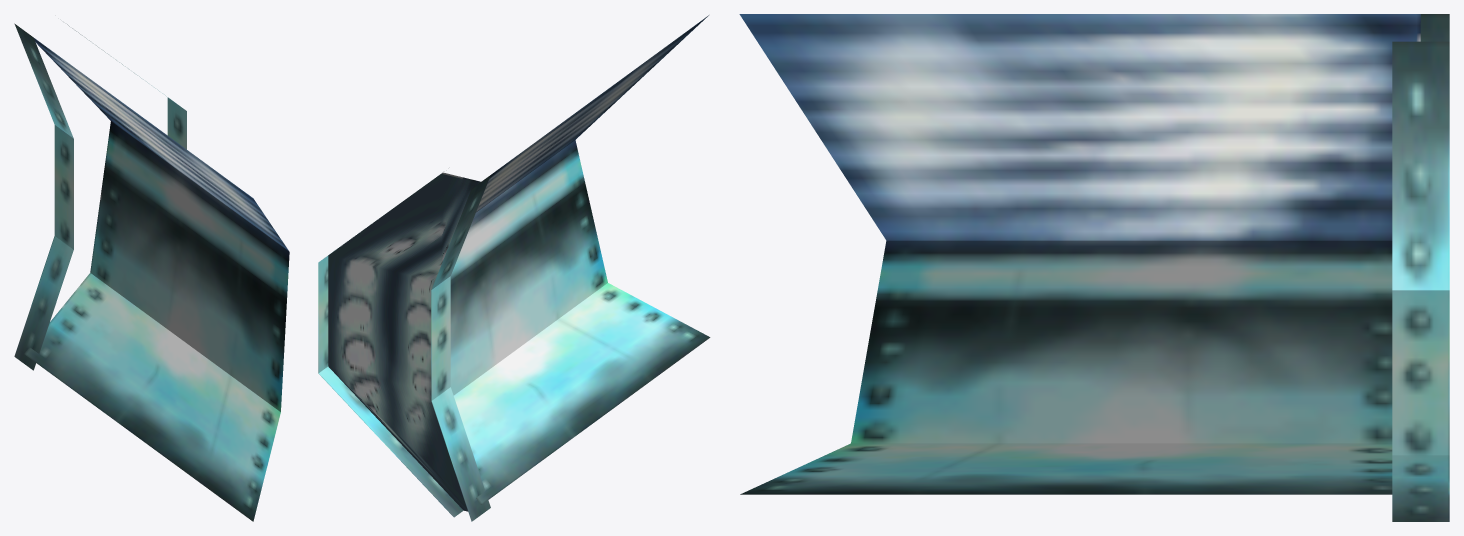
Rendered from W_A_Gang_Schräg_R_Ministerium_2487.glb.
3 renders of one model, left to right at view 1: azimuth 30°, elevation 25°; view 2: azimuth 150°, elevation 25°; view 3: azimuth 270°, elevation 25°, orthographic. The views are drawn at different scales.
Parts seen in each view (by area): view 1: pPlaneShape151, pPlaneShape153, pPlaneShape154; view 2: pPlaneShape151, pPlaneShape152, pPlaneShape153, pPlaneShape154; view 3: pPlaneShape151, pPlaneShape154, pPlaneShape153.
Boxes of the visible parts, <box> form: pPlaneShape151: <box>24,38,289,521</box>; pPlaneShape153: <box>14,23,73,370</box>; pPlaneShape154: <box>67,24,186,149</box>; pPlaneShape151: <box>450,15,710,504</box>; pPlaneShape152: <box>328,172,480,511</box>; pPlaneShape153: <box>431,175,490,521</box>; pPlaneShape154: <box>318,176,463,517</box>; pPlaneShape151: <box>739,14,1420,494</box>; pPlaneShape154: <box>1392,41,1449,521</box>; pPlaneShape153: <box>1420,14,1449,41</box>.
Bounding box in the file's own units: 0.193 × 0.4008 × 0.521.
4 materials, 4 textured.
